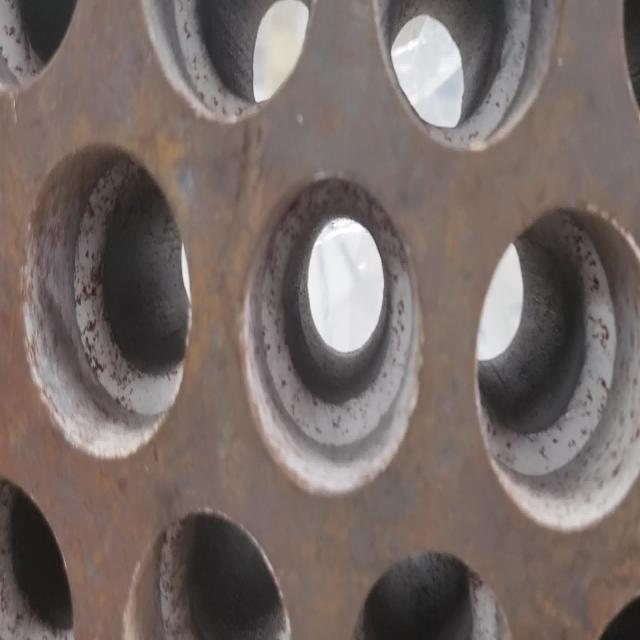Hole: (238, 174, 423, 498), (20, 141, 192, 461), (474, 202, 638, 536), (372, 0, 560, 153), (121, 506, 297, 640), (135, 1, 317, 125)
